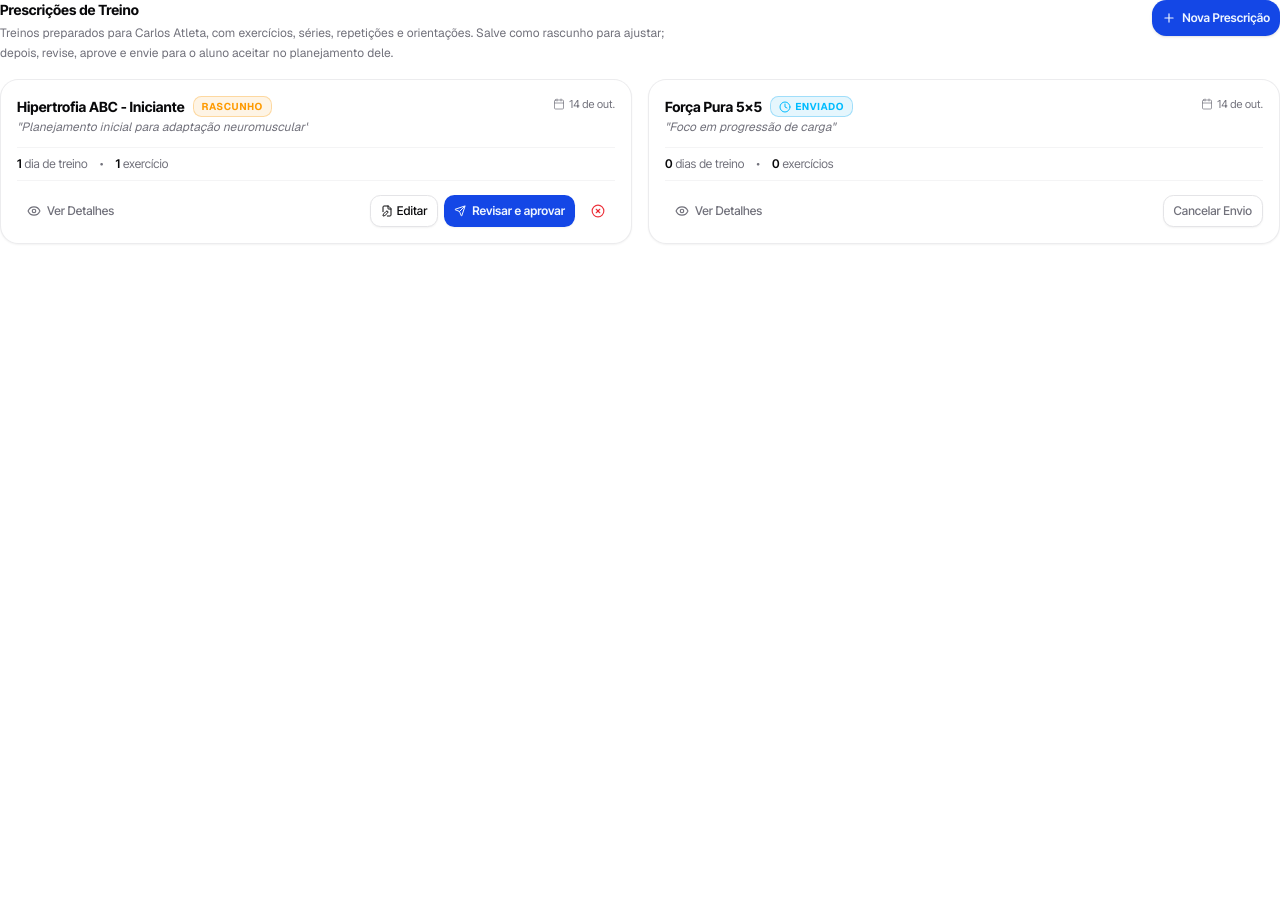
Scenario: TASK 6.2B — Coach Workout Prescriptions UI & UX Hardening › 2. Área do Personal — Treinos Prescritos e Ciclo de Vida › abre modal de detalhes da prescrição ao clicar em 'Ver Detalhes'
Step 1. Click the button "Ver Detalhes" below "dia de treino" → [71, 211], box [17,195,124,227]
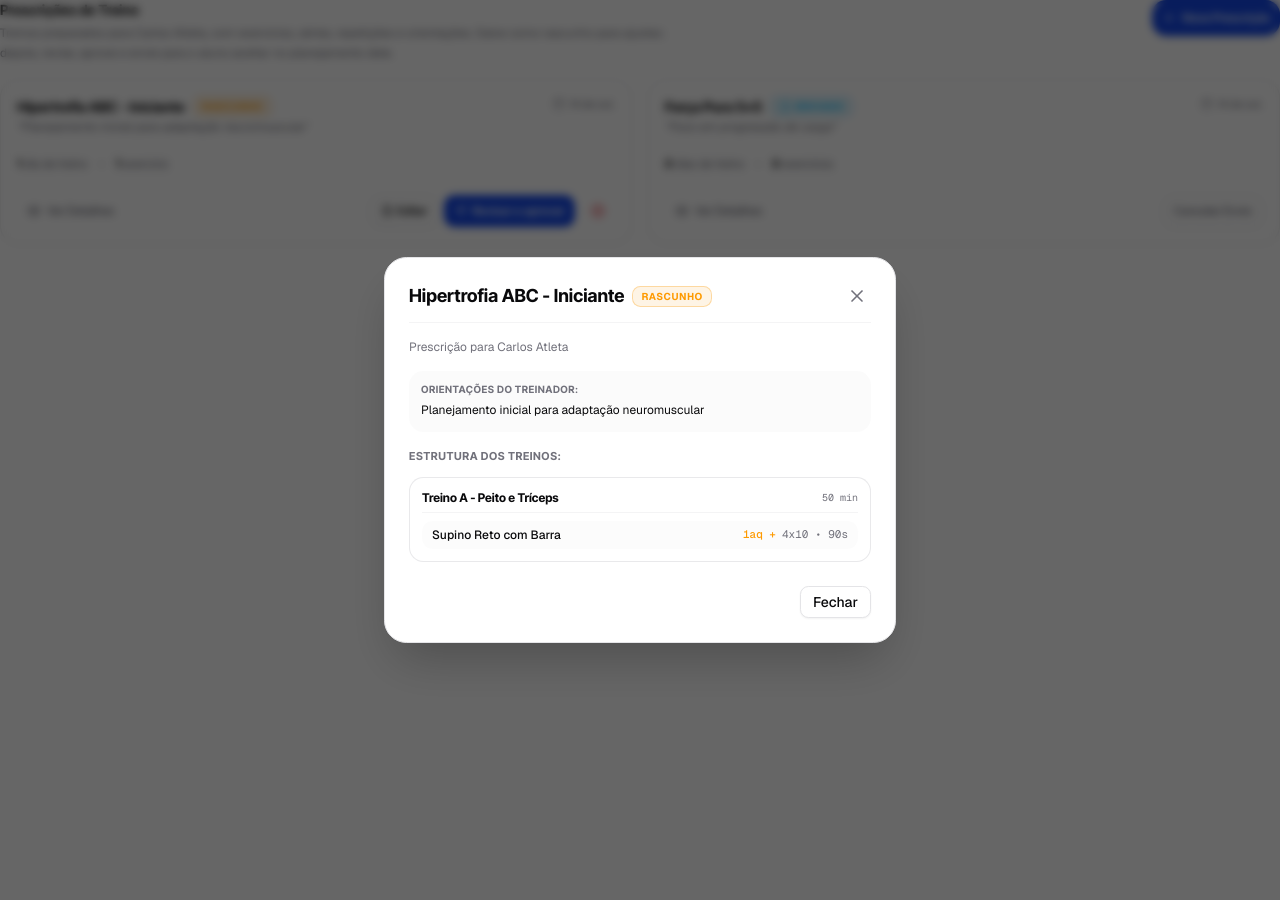
expect the text "Estrutura dos Treinos:" is shown: met, box [409,449,561,463]
expect the text "Prescrição para Carlos Atleta" is shown: met, box [409,339,568,355]
expect the text "Treino A - Peito e Tríceps" is shown: met, box [422,490,559,506]
